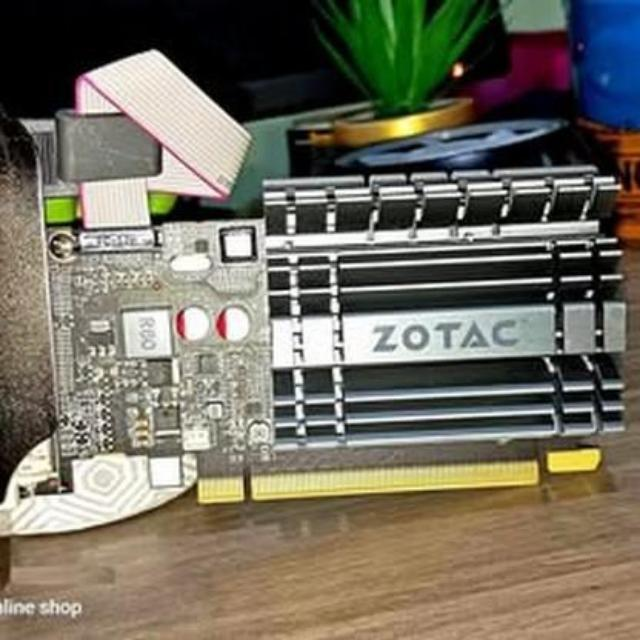GPU: (34, 136, 640, 527)
